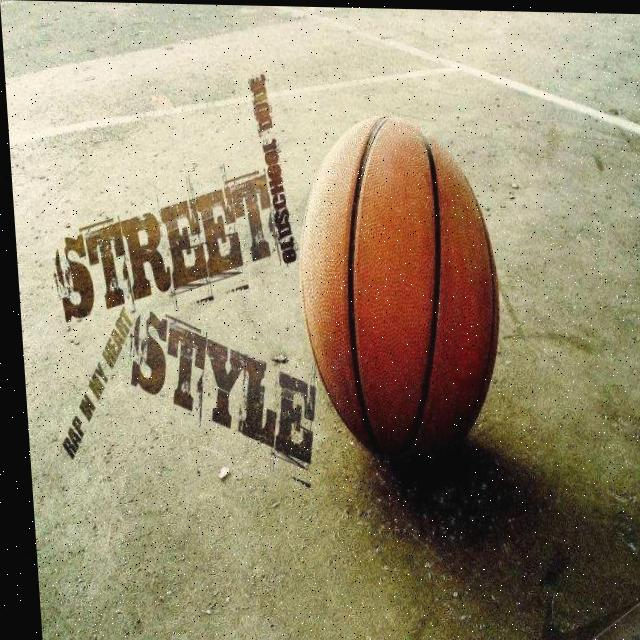Basketball: (284, 117, 515, 480)
